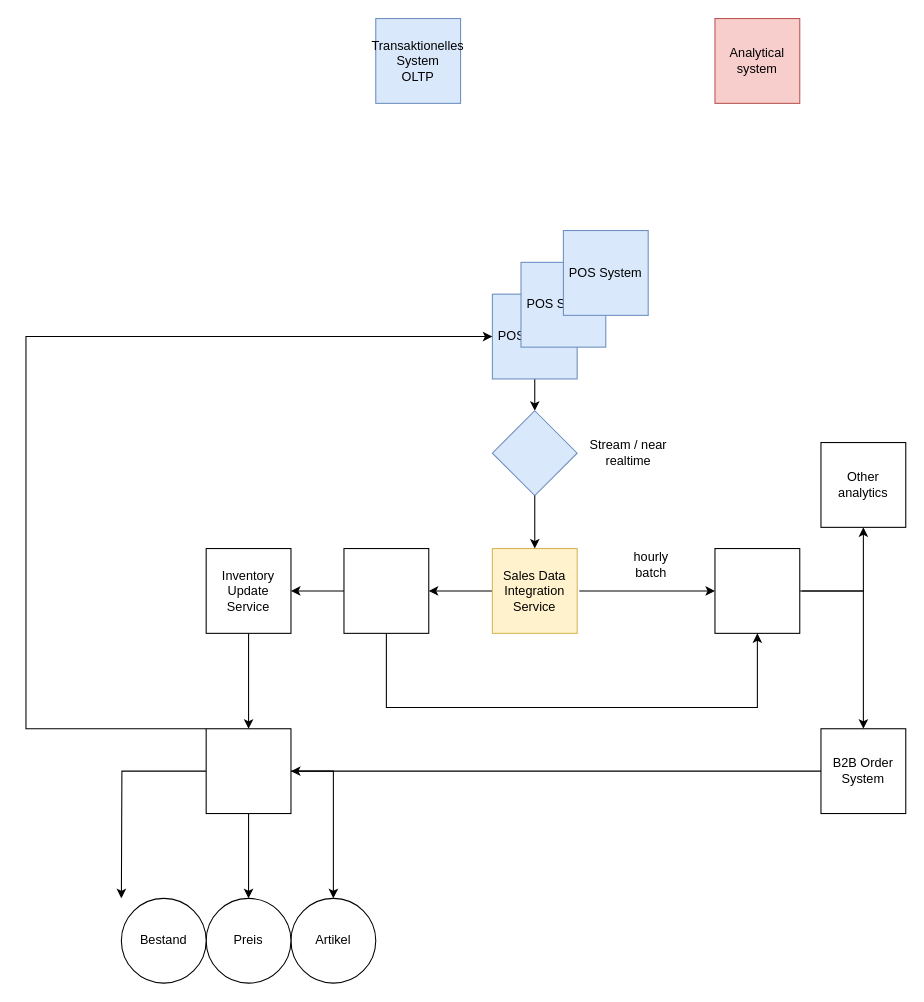
This 924x1002 diagram has some shape labels left out. Here are the shapes that lost their labels. From the top down, the centre of each, then its label:
At [534,453]: "REST / Kafka".
At [386,590]: "Transaction Validation Service".
At [757,590]: "Analytics Service".
At [248,771]: "ERP".
